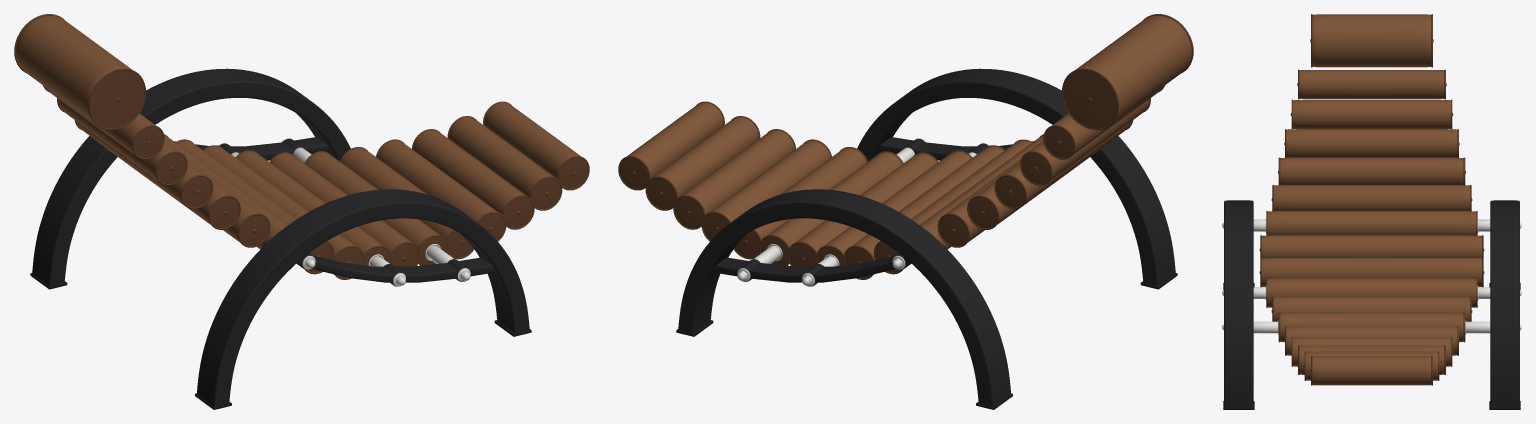
File: duolune.glb
The picture shows the model from 3 angles, left to right: view 1: azimuth 30°, elevation 25°; view 2: azimuth 150°, elevation 25°; view 3: azimuth 270°, elevation 25°; orthographic projection. The views are drawn at different scales.
Visible parts, largest first — view 1: rollers, frame, trim, rail, hardware; view 2: rollers, frame, trim, rail, hardware; view 3: rollers, frame, trim, hardware.
Part boxes in pixels (<box>): rollers: <box>16,15,580,274</box>; frame: <box>32,68,529,406</box>; trim: <box>14,14,589,279</box>; rail: <box>174,137,495,286</box>; hardware: <box>218,138,470,286</box>; rollers: <box>627,15,1191,274</box>; frame: <box>678,68,1175,406</box>; trim: <box>618,14,1193,279</box>; rail: <box>712,137,1033,286</box>; hardware: <box>737,138,989,286</box>; rollers: <box>1262,14,1481,385</box>; frame: <box>1224,200,1519,407</box>; trim: <box>1259,14,1484,385</box>; hardware: <box>1222,218,1521,334</box>.
Size of the model in its own units: 1.74 by 1.03 by 1.11.
